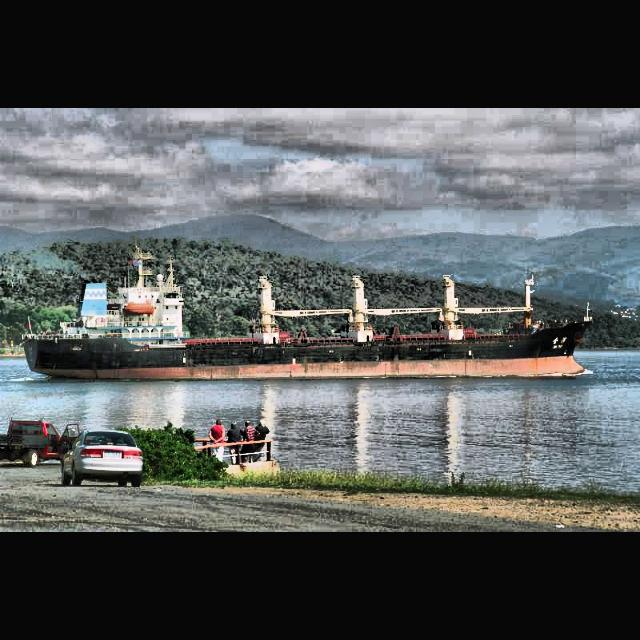bulk_carrier: (21, 236, 596, 382)
